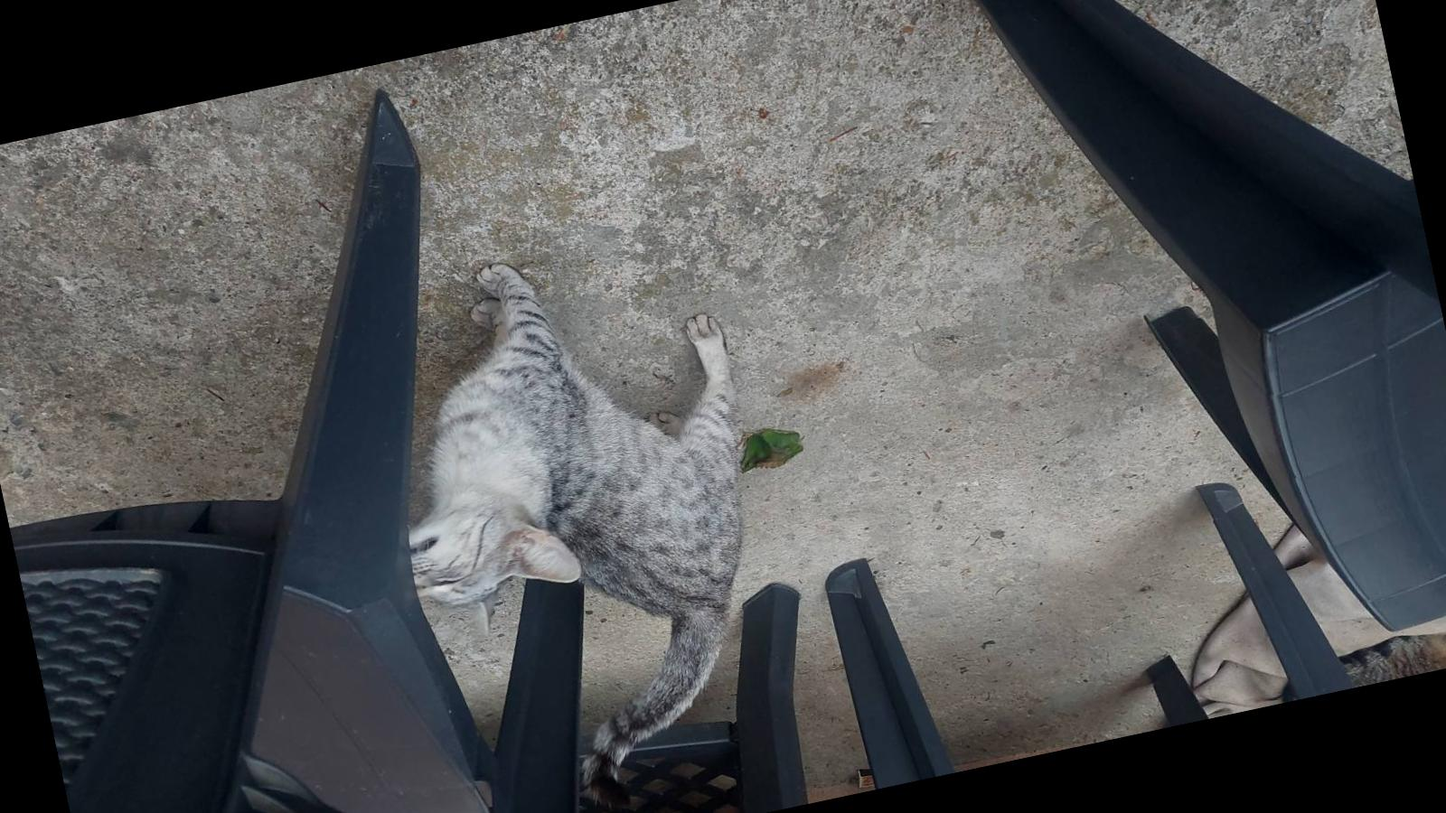macka: (333, 214, 816, 813)
